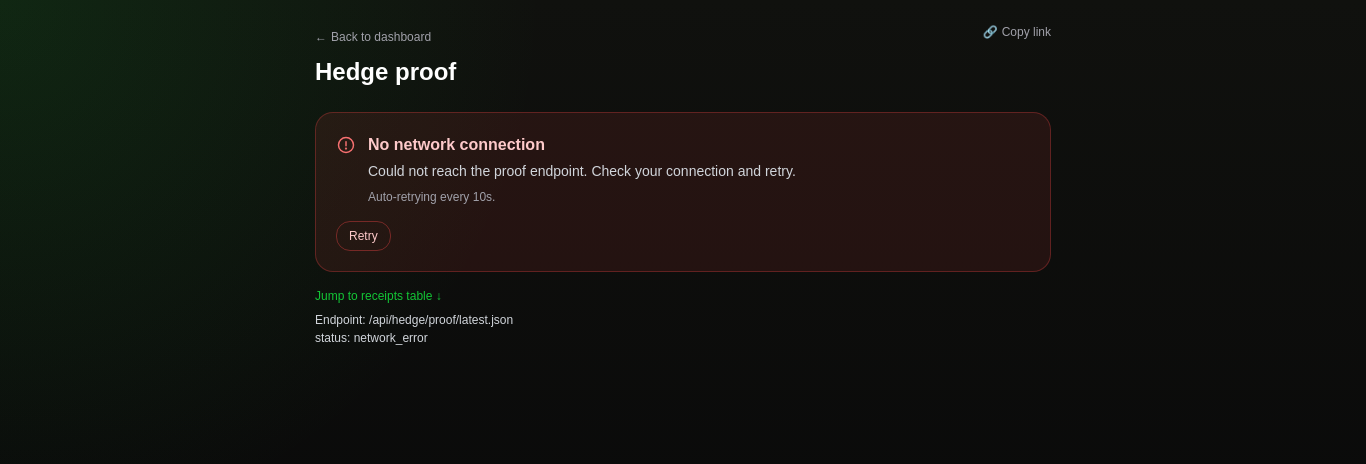
HedgeProofViewerPage › retry on a network rejection re-fetches and recovers to the happy view
The image size is (1366, 464).
Expected: the element with test id "hedge-proof-error" shows "No network", [368,136,545,153]
Click the button with test id "hedge-proof-retry" at (363, 236), box [336,221,391,251]
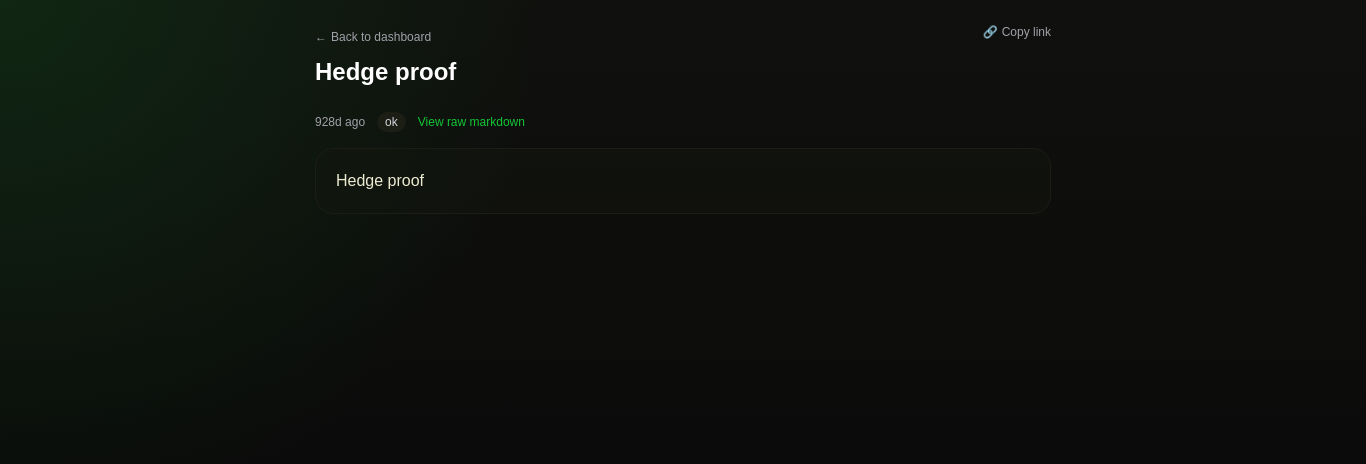
Now the element with test id "hedge-proof-error" is gone
Now the element with test id "hedge-proof-body" is shown, box [315,148,1051,214]
